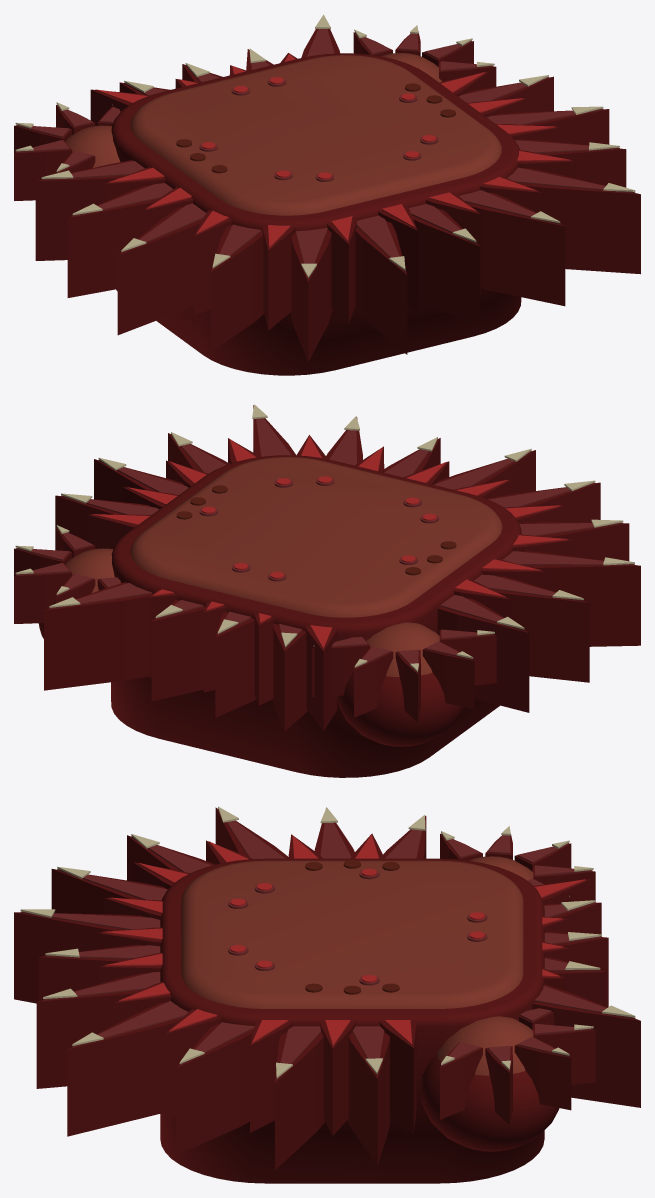
The model's file is body_ourico_mar.fbx.
The picture shows the model from 3 angles, top to bottom: view 1: azimuth 30°, elevation 25°; view 2: azimuth 150°, elevation 25°; view 3: azimuth 270°, elevation 25°; orthographic projection. The views are drawn at different scales.
Parts seen in each view (by area): view 1: body_ourico_mar_corpo, body_ourico_mar_mao_esq, body_ourico_mar_mao; view 2: body_ourico_mar_corpo, body_ourico_mar_mao_esq, body_ourico_mar_mao; view 3: body_ourico_mar_corpo, body_ourico_mar_mao, body_ourico_mar_mao_esq.
Boxes of the visible parts, x1,y1,x2,y2 form: body_ourico_mar_corpo: (35, 14, 640, 375); body_ourico_mar_mao_esq: (14, 102, 120, 200); body_ourico_mar_mao: (353, 25, 496, 87); body_ourico_mar_corpo: (44, 404, 640, 777); body_ourico_mar_mao_esq: (312, 622, 496, 746); body_ourico_mar_mao: (14, 525, 121, 638); body_ourico_mar_corpo: (14, 806, 640, 1183); body_ourico_mar_mao: (420, 1008, 595, 1151); body_ourico_mar_mao_esq: (440, 826, 595, 902).
Size of the model in its own units: 6.8 by 2.04 by 6.52.
Materials: 1 (1 with a texture image).
